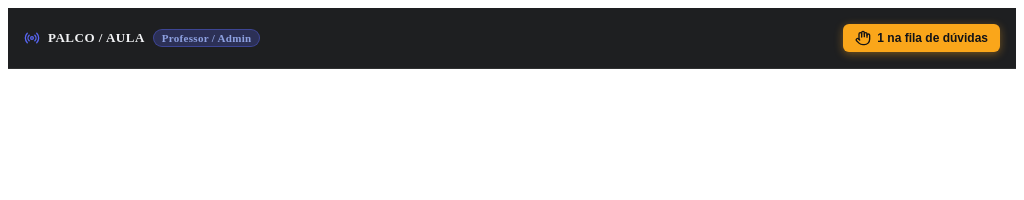
it: Canais de Palco / Sala de Aula (Stage Channels) › StageModerationBar Component › renderiza visão de moderador / professor com fila de dúvidas
Later steps or results of the test are not shown.
Check: the text "Professor / Admin" is shown, box [153,29,260,47]
Check: the text "1 na fila de dúvidas" is shown, box [877,31,988,45]
// Abre popover da fila de dúvidas
Step 1. Click the button with test id "stage-hands-queue-btn" → [922, 38], box [843,24,1000,52]
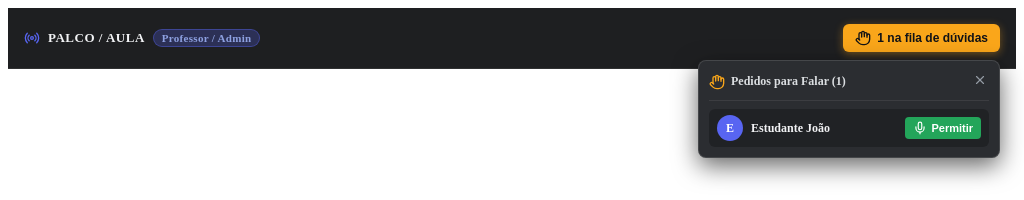
Check: the element with test id "stage-hands-popover" is shown, box [698,60,1000,158]
Check: the text "Estudante João" is shown, box [751,120,830,136]
